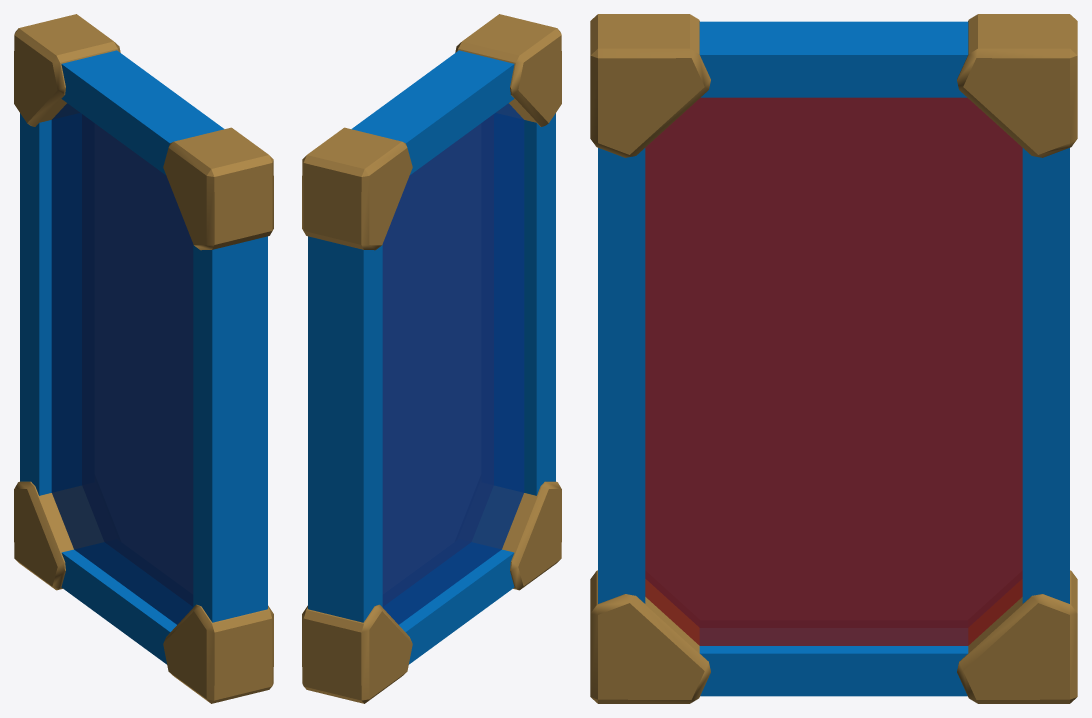
File: Portal 1.fbx
The picture shows the model from 3 angles, left to right: view 1: azimuth 30°, elevation 25°; view 2: azimuth 150°, elevation 25°; view 3: azimuth 270°, elevation 25°; orthographic projection. The views are drawn at different scales.
Parts seen in each view (by area): view 1: Blue, pCube7, pCube11, pCube8, pCube10, pCube9; view 2: Blue, pCube7, pCube10, pCube9, pCube11, pCube8; view 3: Red, Blue, pCube7, pCube11, pCube10, pCube9, pCube8.
Boxes of the visible parts, box(x1,y1,x2,y2) form: Blue: box(51, 103, 193, 624); pCube7: box(20, 50, 267, 664); pCube11: box(163, 127, 273, 250); pCube8: box(163, 604, 273, 703); pCube10: box(14, 14, 120, 126); pCube9: box(14, 481, 73, 590); Blue: box(382, 103, 524, 624); pCube7: box(308, 50, 555, 664); pCube10: box(302, 127, 412, 250); pCube9: box(302, 604, 412, 703); pCube11: box(455, 14, 561, 126); pCube8: box(502, 481, 561, 590); Red: box(645, 97, 1022, 645); Blue: box(646, 98, 1021, 627); pCube7: box(598, 21, 1069, 696); pCube11: box(590, 14, 710, 157); pCube10: box(957, 14, 1077, 157); pCube9: box(957, 570, 1077, 703); pCube8: box(590, 570, 710, 703).
Bounding box in the file's own units: 1.21 × 6.2 × 9.2.
